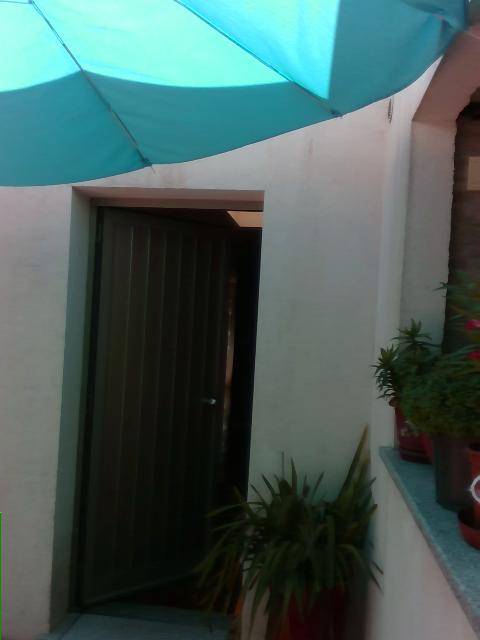semi_door: (50, 183, 261, 639)
